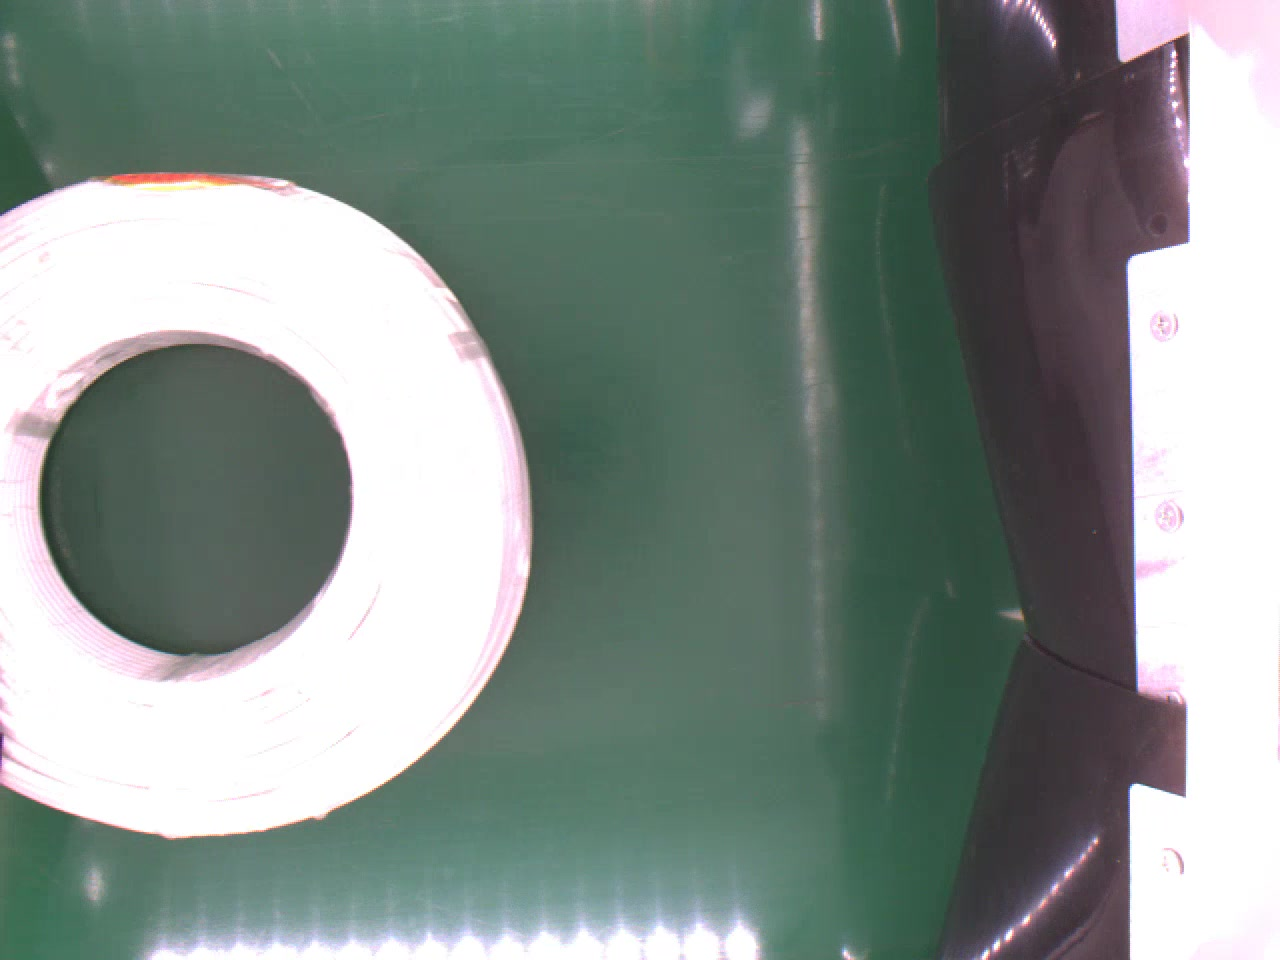white: (0, 170, 536, 843)
